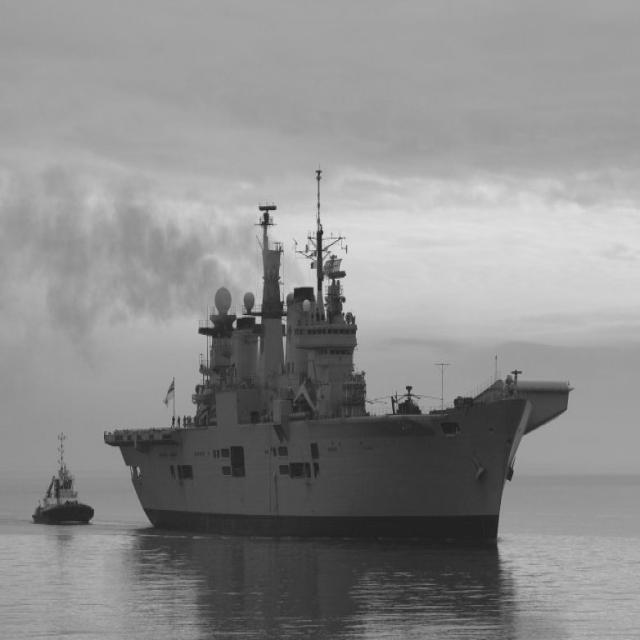Portanaves: (98, 162, 574, 552)
